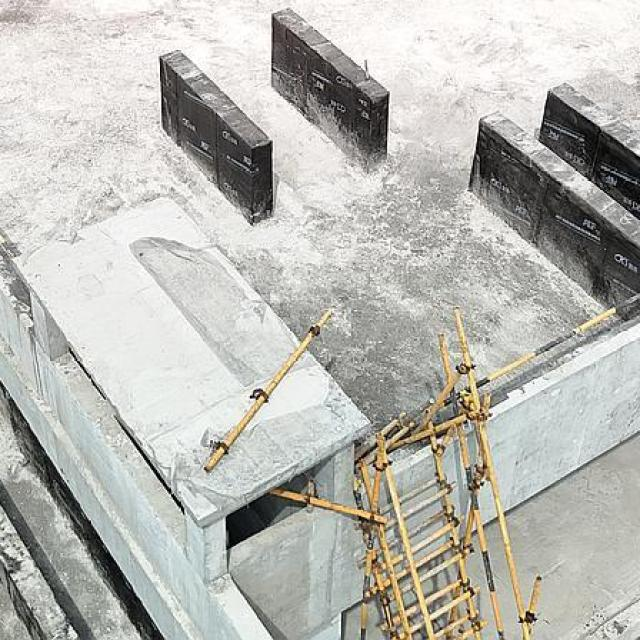edge_guardrail: (427, 290, 640, 414)
